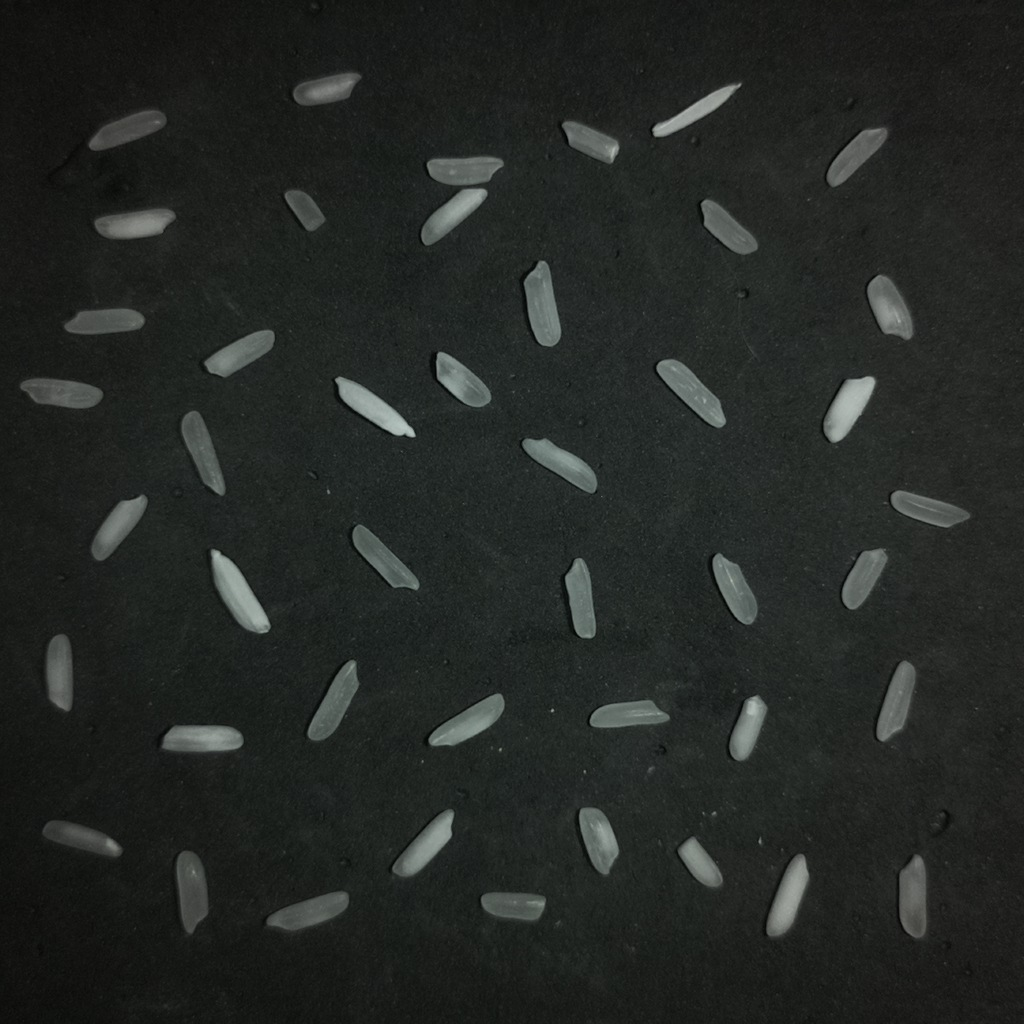broken: (284, 189, 325, 231)
chalky: (656, 359, 725, 427), (392, 810, 454, 876), (522, 438, 596, 493), (428, 693, 504, 746), (91, 495, 148, 561), (420, 189, 486, 245), (823, 376, 876, 443), (766, 854, 808, 937), (204, 329, 274, 377), (712, 553, 757, 624), (523, 260, 560, 346), (435, 351, 490, 407), (42, 820, 122, 857), (866, 275, 912, 339), (578, 807, 619, 874), (94, 208, 175, 239), (729, 696, 767, 761), (565, 558, 595, 638), (561, 121, 618, 163), (677, 836, 723, 888), (292, 72, 360, 105), (45, 634, 72, 710)
foreign: (651, 82, 740, 137), (211, 549, 269, 633), (335, 376, 414, 437)
whole: (352, 524, 419, 589), (307, 660, 358, 741), (181, 410, 226, 496), (826, 127, 887, 186), (266, 891, 349, 931), (88, 109, 166, 150), (700, 199, 757, 254), (876, 661, 915, 741), (890, 490, 969, 527), (175, 850, 208, 934), (842, 548, 887, 609), (20, 378, 102, 408), (426, 156, 503, 186), (161, 725, 243, 753), (589, 699, 669, 727), (63, 308, 144, 334), (480, 892, 545, 921)
